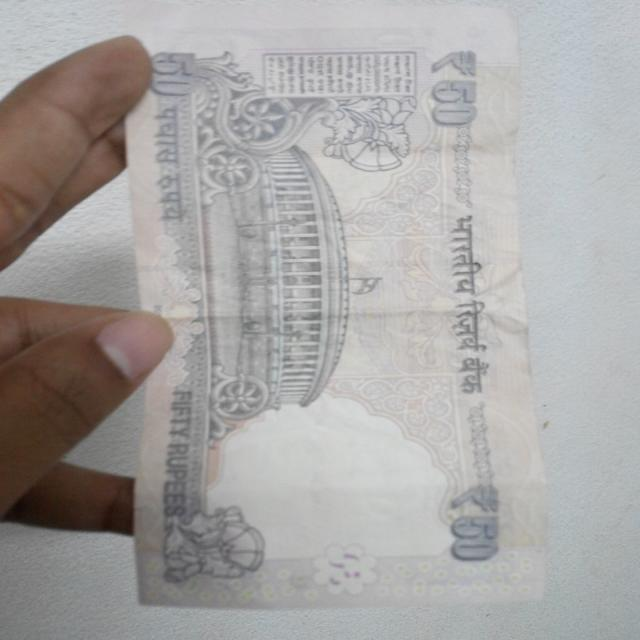50rs: (110, 13, 558, 617)
